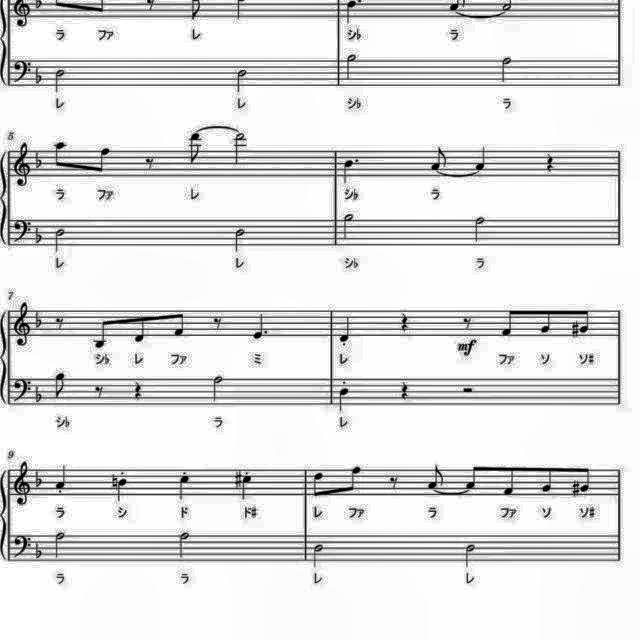Bass-clef: (12, 375, 36, 405), (10, 57, 32, 87), (10, 215, 32, 245), (11, 532, 33, 560)
Bemol: (32, 148, 48, 172), (33, 64, 47, 90), (34, 220, 46, 248), (33, 466, 47, 489), (32, 309, 46, 331), (34, 538, 46, 562), (32, 384, 46, 404)
Diez: (108, 471, 124, 494), (232, 466, 245, 490)
Eighth-note: (88, 318, 112, 354), (92, 144, 116, 178), (342, 461, 366, 495), (499, 464, 521, 501), (424, 460, 448, 492), (187, 129, 206, 167), (132, 313, 152, 349), (498, 302, 518, 338), (538, 464, 558, 498), (52, 139, 72, 173), (426, 146, 450, 174), (51, 371, 71, 404), (169, 308, 189, 340), (536, 306, 556, 338), (461, 462, 481, 493), (310, 468, 328, 500), (578, 466, 594, 498), (576, 304, 592, 336)
Eighth-rest: (458, 307, 478, 337), (141, 155, 159, 175), (210, 313, 227, 333), (53, 313, 69, 333), (386, 472, 402, 492), (92, 382, 108, 402)
Half-note: (231, 130, 251, 168), (496, 52, 516, 86), (342, 51, 362, 85), (468, 213, 488, 247), (340, 209, 360, 243), (232, 66, 252, 98), (174, 530, 193, 562), (460, 541, 480, 571), (52, 530, 70, 562), (209, 372, 227, 404), (232, 225, 250, 255), (310, 541, 328, 571), (52, 65, 70, 95), (52, 226, 70, 254)
Half-rest: (458, 382, 478, 398)
Quarter-dot: (339, 156, 363, 187), (251, 312, 273, 344)
Quarter-note: (472, 142, 492, 172), (53, 461, 71, 494), (174, 471, 193, 502), (338, 314, 356, 346), (239, 472, 257, 504), (112, 476, 132, 504), (337, 386, 355, 414)
Quarter-rest: (398, 310, 414, 338), (398, 374, 414, 401), (130, 377, 146, 403), (544, 148, 560, 174)
Treble-clef: (11, 139, 34, 189), (11, 300, 33, 350), (13, 459, 35, 508)
